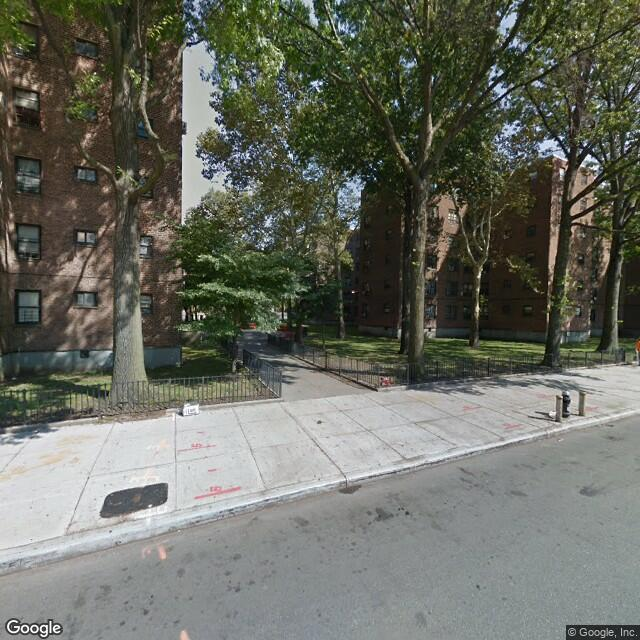litter: (174, 396, 212, 418)
